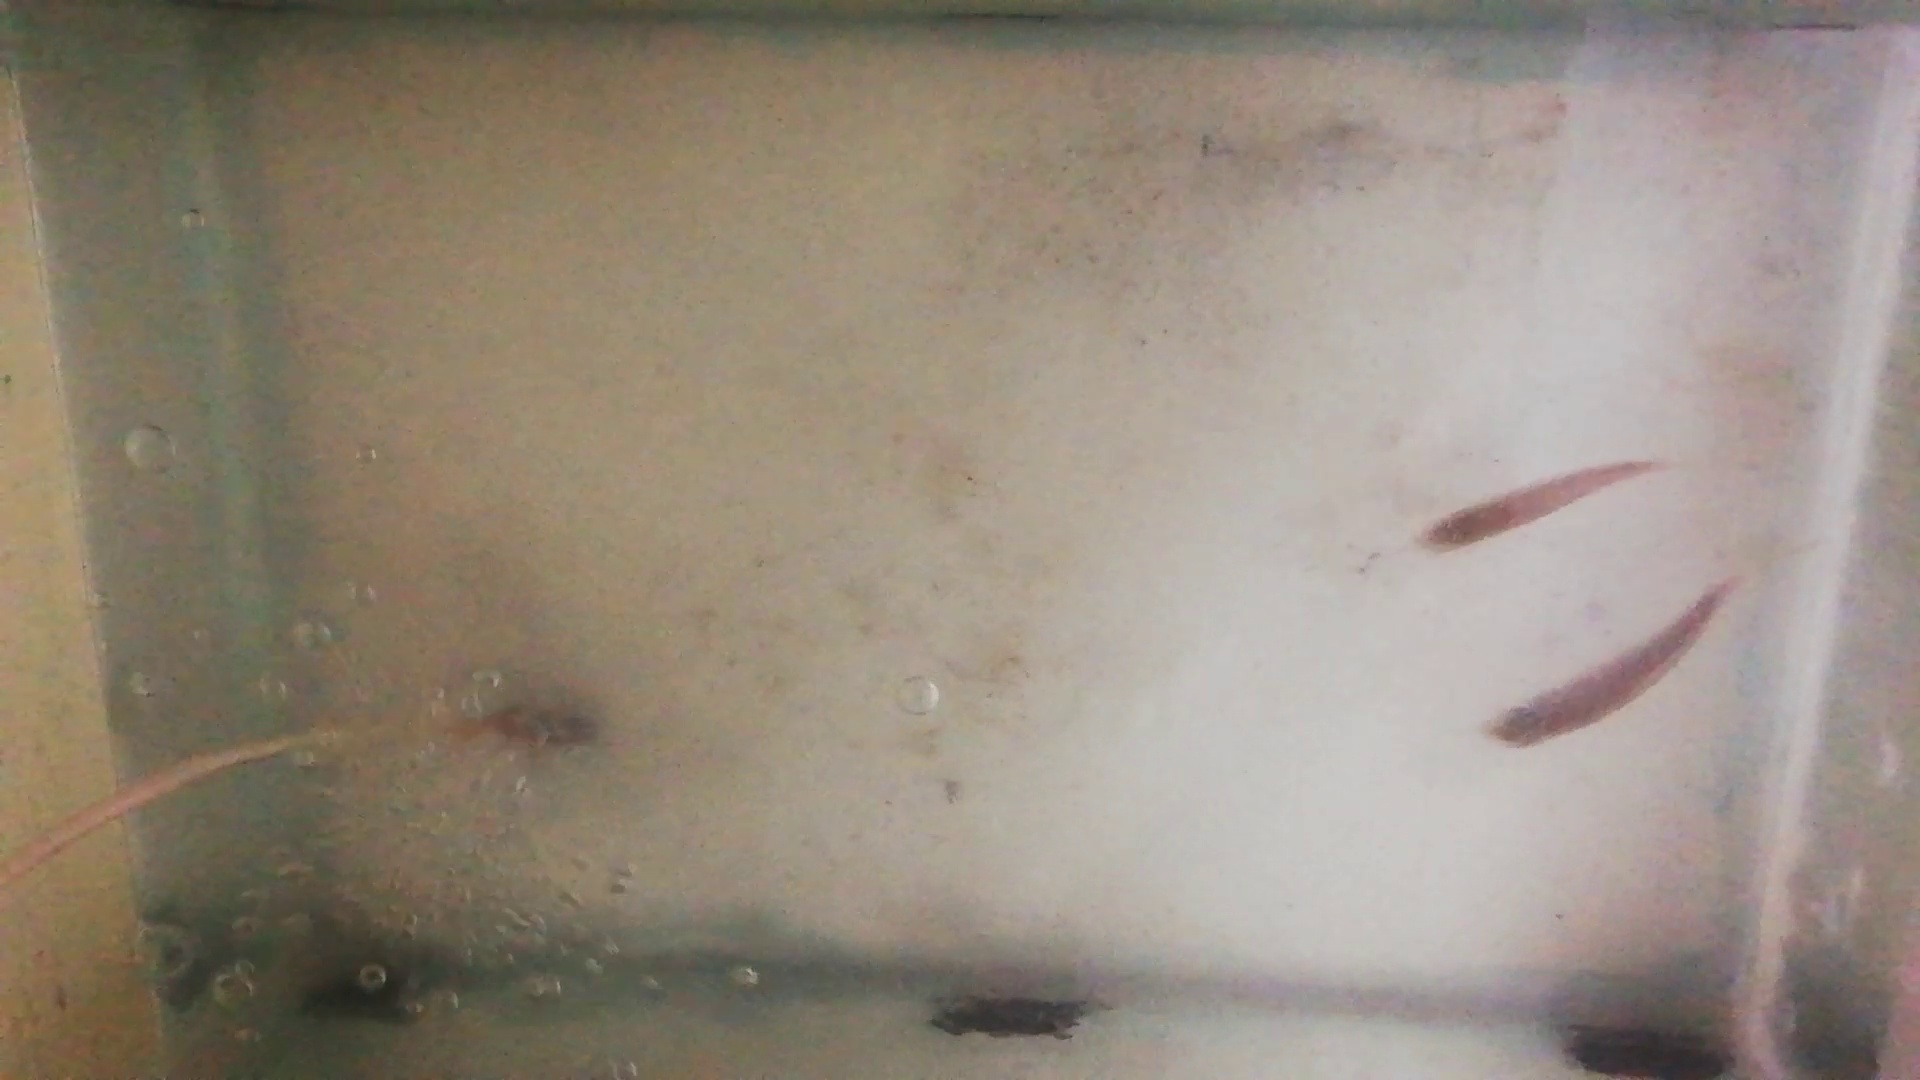fish: (1480, 575, 1739, 746), (1420, 459, 1655, 553)
